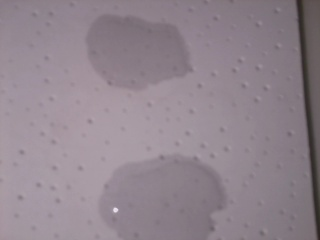Water_detected: (114, 165, 204, 232), (102, 17, 168, 75)
